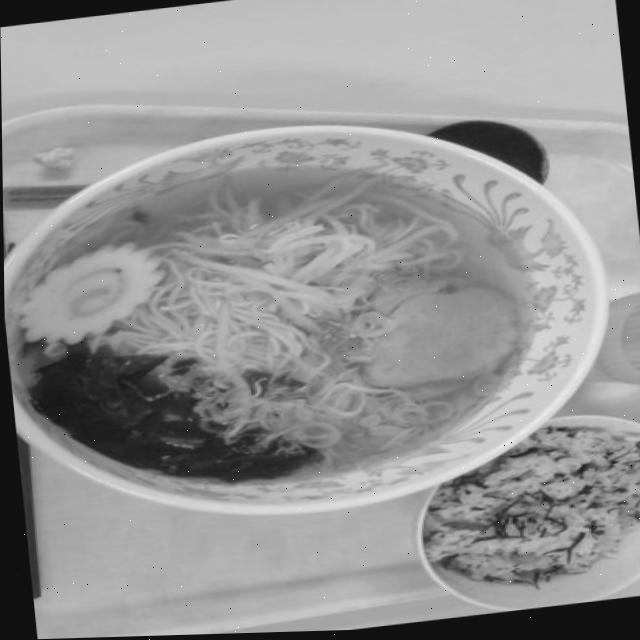米饭主食: (419, 409, 640, 621)
面条主食: (2, 131, 581, 518)
